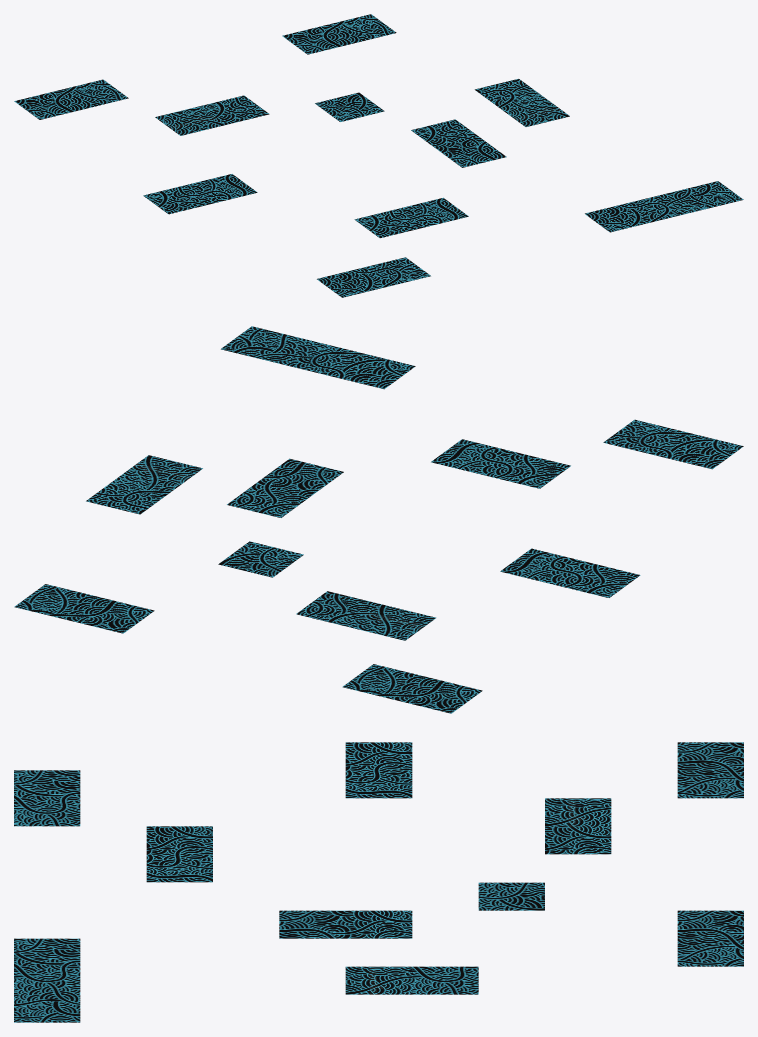
The model's file is FirstLevelPlatformFourth.fbx.
3 views of the same model, one above another, from view 1: azimuth 30°, elevation 25°; view 2: azimuth 150°, elevation 25°; view 3: azimuth 270°, elevation 25° (orthographic). The views are drawn at different scales.
Parts seen in each view (by area): view 1: PanelFirstLevel; view 2: PanelFirstLevel; view 3: PanelFirstLevel.
Boxes of the visible parts, bbox=[...] form: PanelFirstLevel: bbox=[14, 14, 743, 297]; PanelFirstLevel: bbox=[14, 326, 743, 713]; PanelFirstLevel: bbox=[14, 742, 743, 1022].
Bounding box in the file's own units: 2000 × 0.000358 × 2200.
